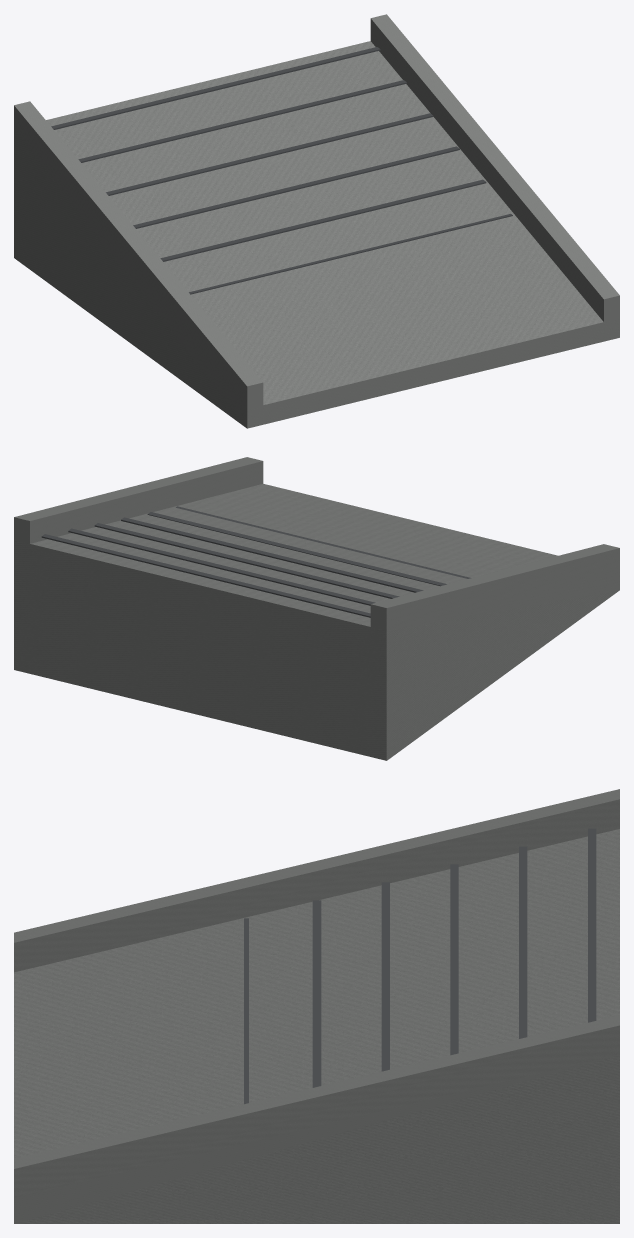
The model's file is car-park-and-road-vehicle-fleet-ramp-slab-08cb31cd__32544.glb.
The picture shows the model from 3 angles, top to bottom: view 1: azimuth 30°, elevation 25°; view 2: azimuth 150°, elevation 25°; view 3: azimuth 270°, elevation 25°; orthographic projection. The views are drawn at different scales.
Parts seen in each view (by area): view 1: ramp-slab; view 2: ramp-slab; view 3: ramp-slab.
Boxes of the visible parts, x1,y1,x2,y2 form: ramp-slab: (14,14,619,428); ramp-slab: (14,457,619,760); ramp-slab: (14,789,619,1223).
Bounding box in the file's own units: 6 × 2.35 × 6.5.
2 materials, 1 textured.
